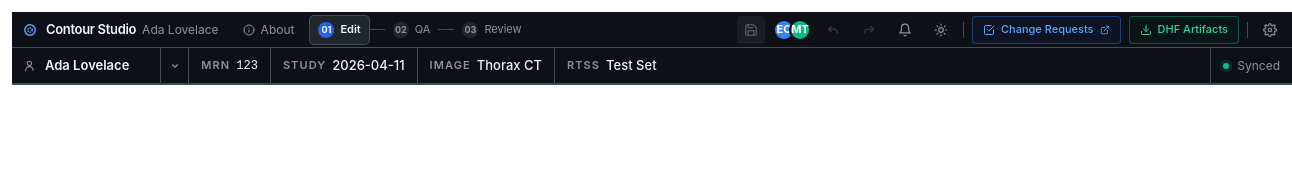
Test: Toolbar contour operations › DHF artifacts download › shows the ProblemDetails detail when the download fails
Click the button "DHF Artifacts" at (1184, 30), box [1128,16,1239,44]
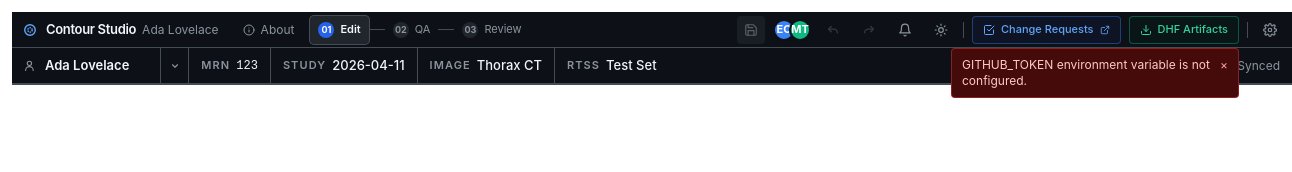
Now the message shows "GITHUB_TOKEN", box [962,56,1210,88]
Click the button named "Dismiss DHF download error" at (1224, 64), box [1220,56,1228,72]
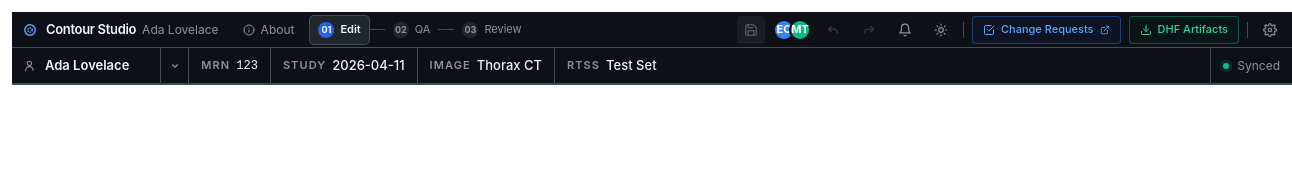
Now the message "GITHUB_TOKEN environment variable is not configured. ×" is gone
